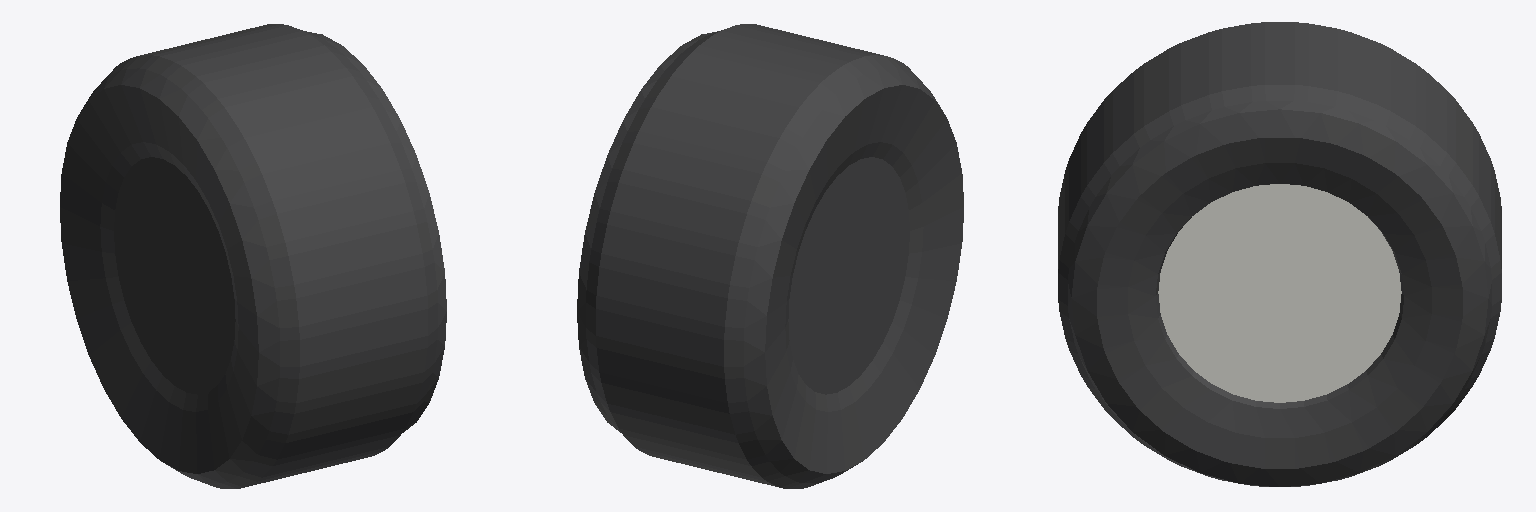
3 renders of one model, left to right at view 1: azimuth 30°, elevation 25°; view 2: azimuth 150°, elevation 25°; view 3: azimuth 270°, elevation 25°, orthographic.
Parts seen in each view (by area): view 1: Roda.004_Plastico_Preto; view 2: Roda.004_Plastico_Preto; view 3: Roda.004_Plastico_Preto, Roda.004_Material.006.
Part boxes in pixels (x1,y1,x2,y2): Roda.004_Plastico_Preto: (60,24,446,488); Roda.004_Plastico_Preto: (577,24,963,488); Roda.004_Plastico_Preto: (1058,22,1501,486); Roda.004_Material.006: (1158,184,1401,402).
Size of the model in its own units: 0.0523 by 0.1039 by 0.1039.
Materials: 2 (2 with a texture image).